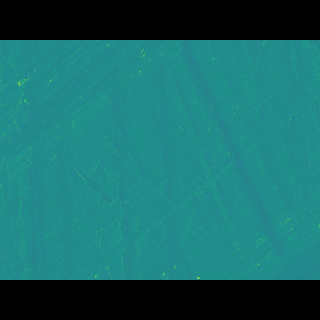Loch: (20, 79, 319, 251), (0, 69, 184, 179)
